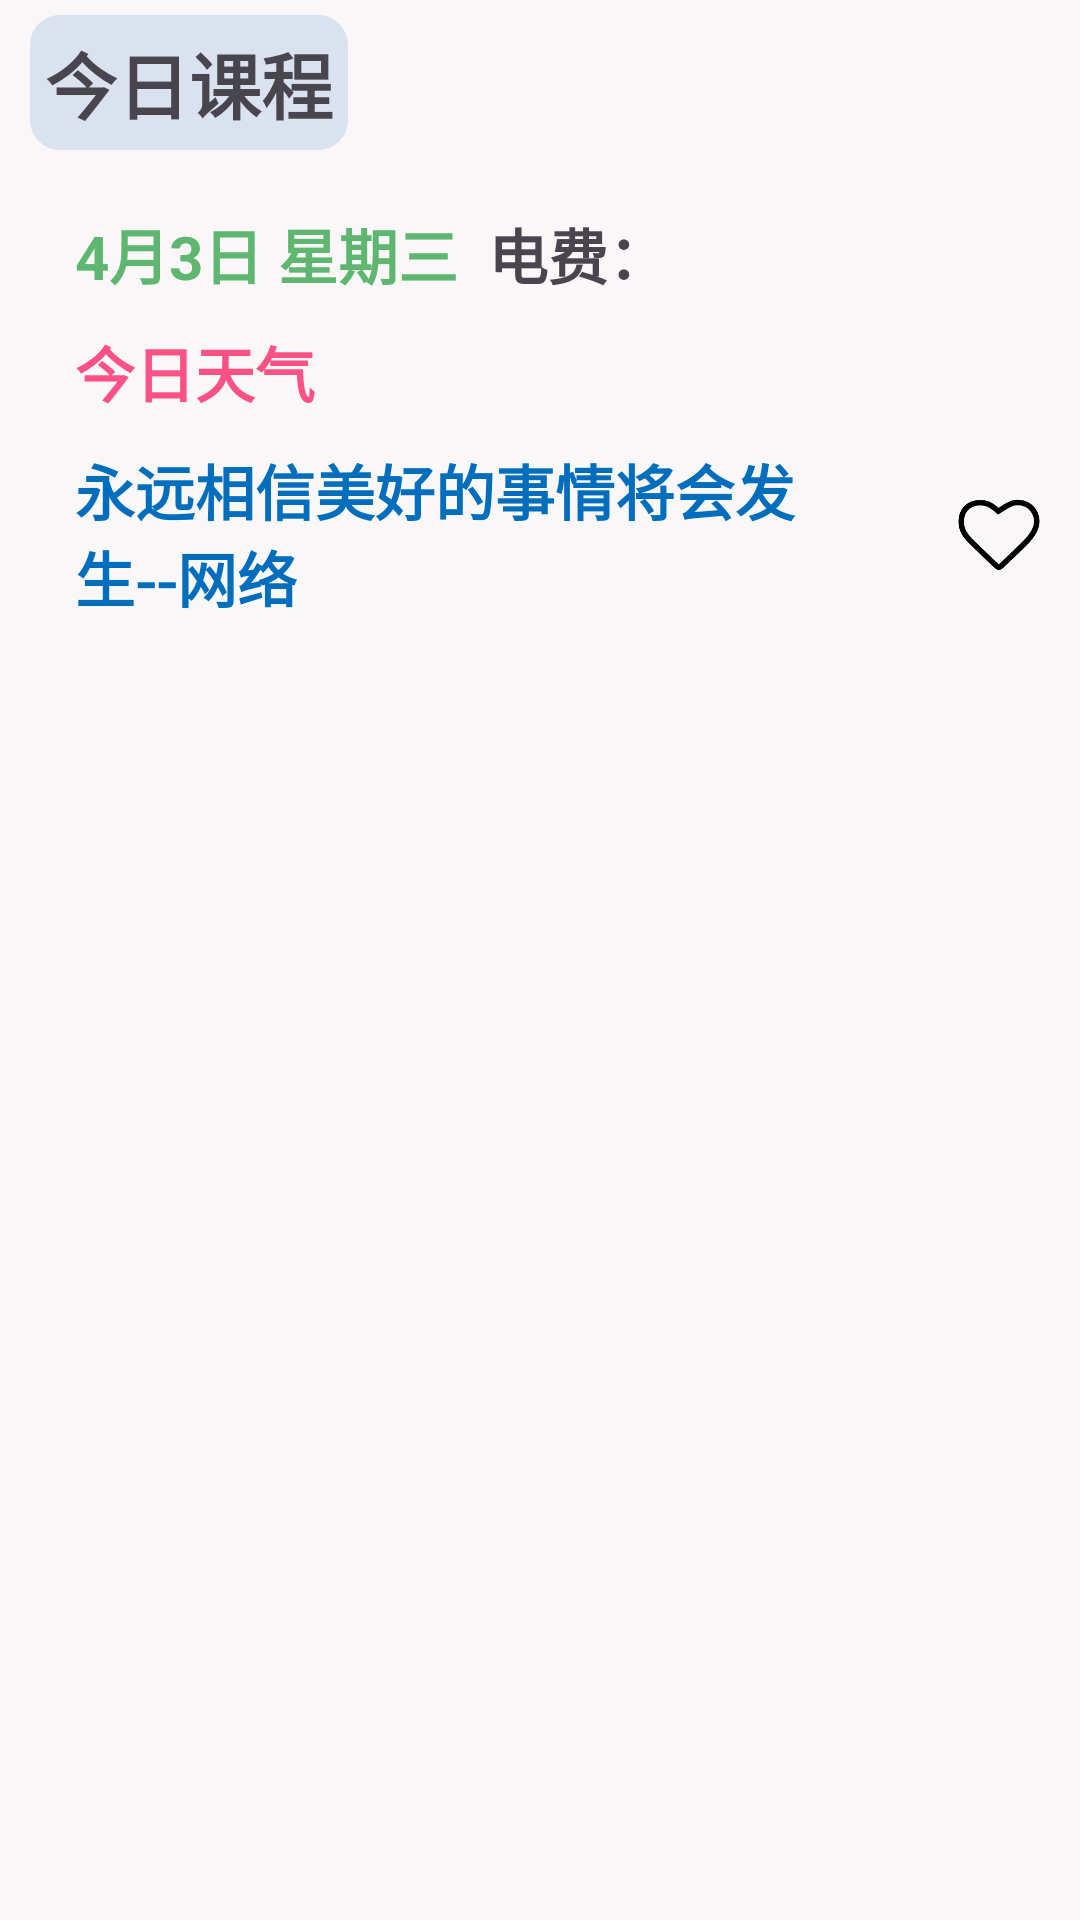

Icons on this 1080 x 1920 Android screen, each with its box as [x1, y1, x2, y2]:
heart empty: [958, 499, 1040, 570]
